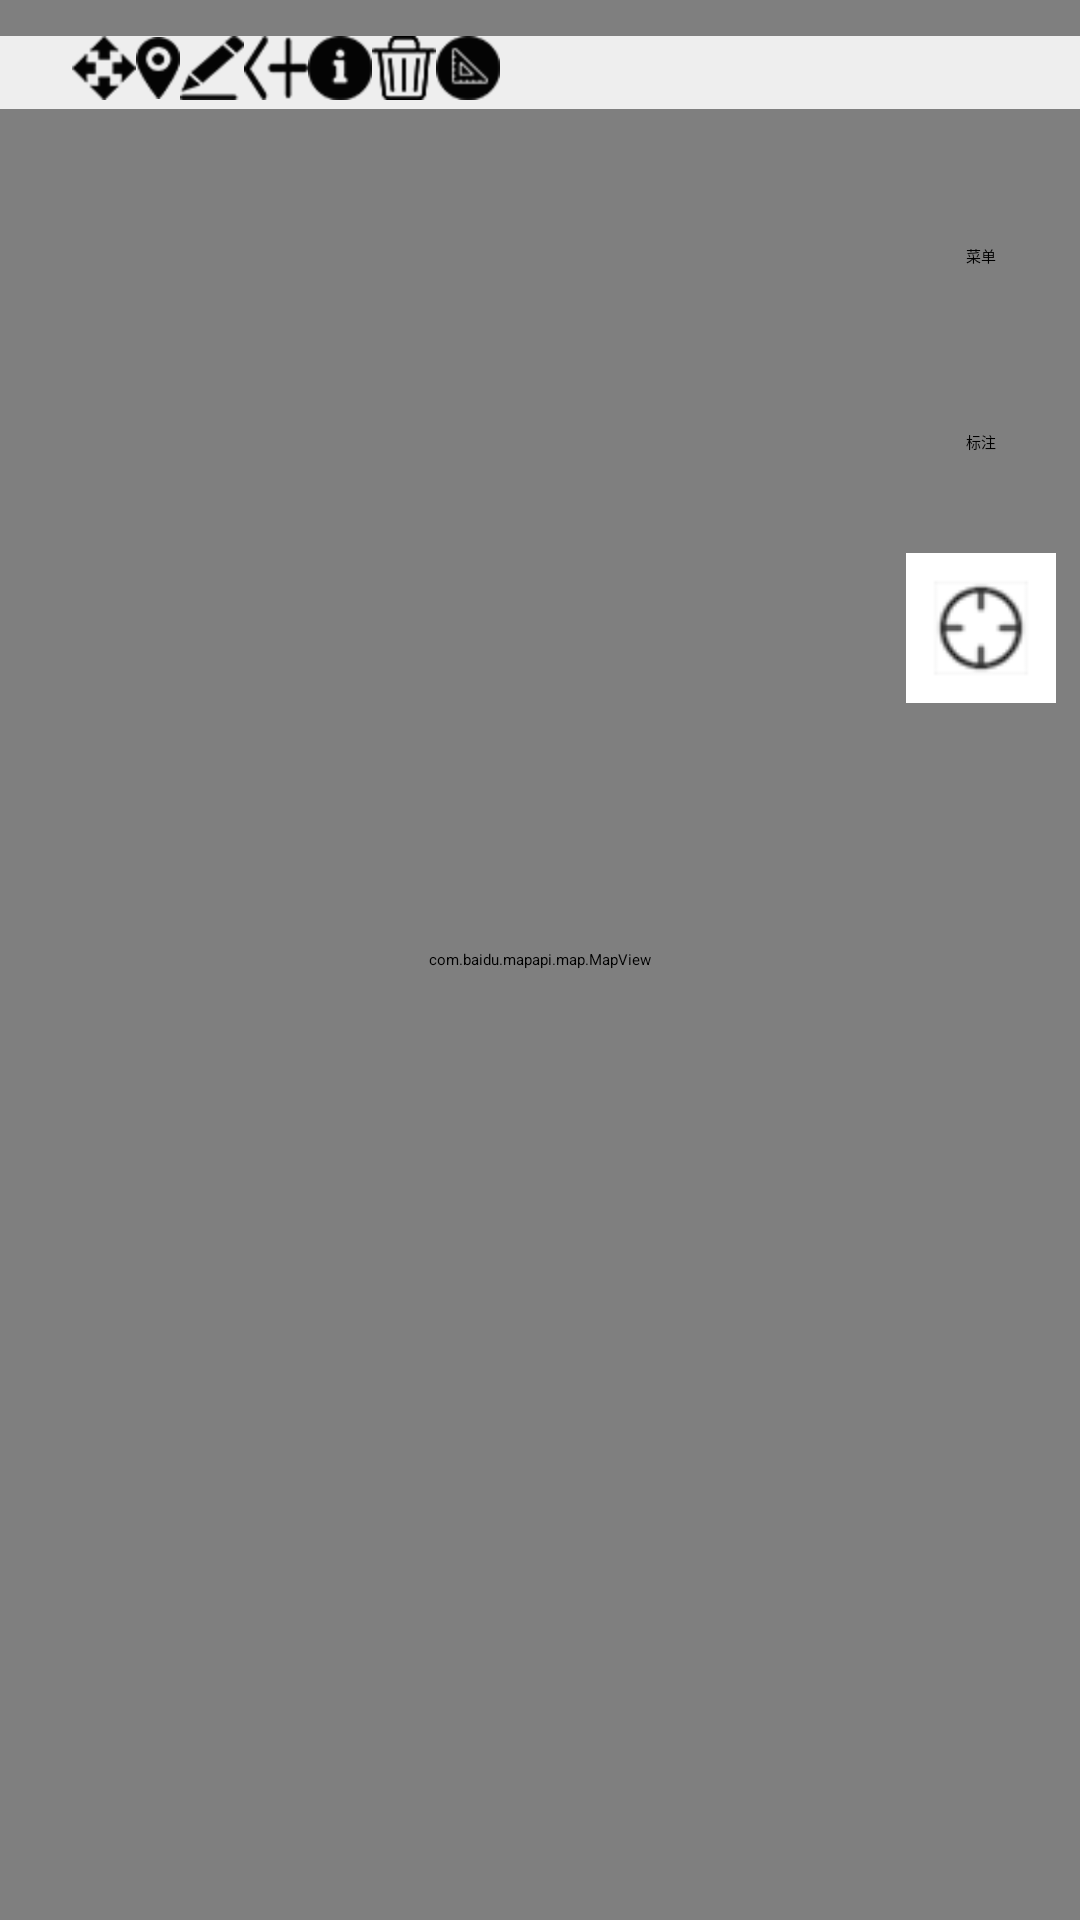

Point at icon controls on the screen. Image size 1080 × 1920, points as (x,y).
dingweipng: (981,628)
top open delete: (404,68)
top open info: (340,68)
top open insert: (276,68)
top open line: (212,68)
top open measure: (468,68)
top open moven: (104,68)
top open point: (158,68)
